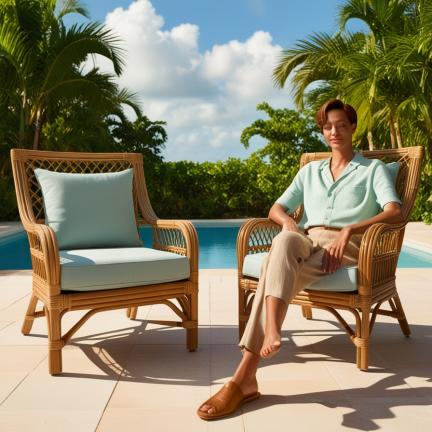empty chair: (11, 149, 197, 374)
guest on chair: (197, 100, 424, 420)
